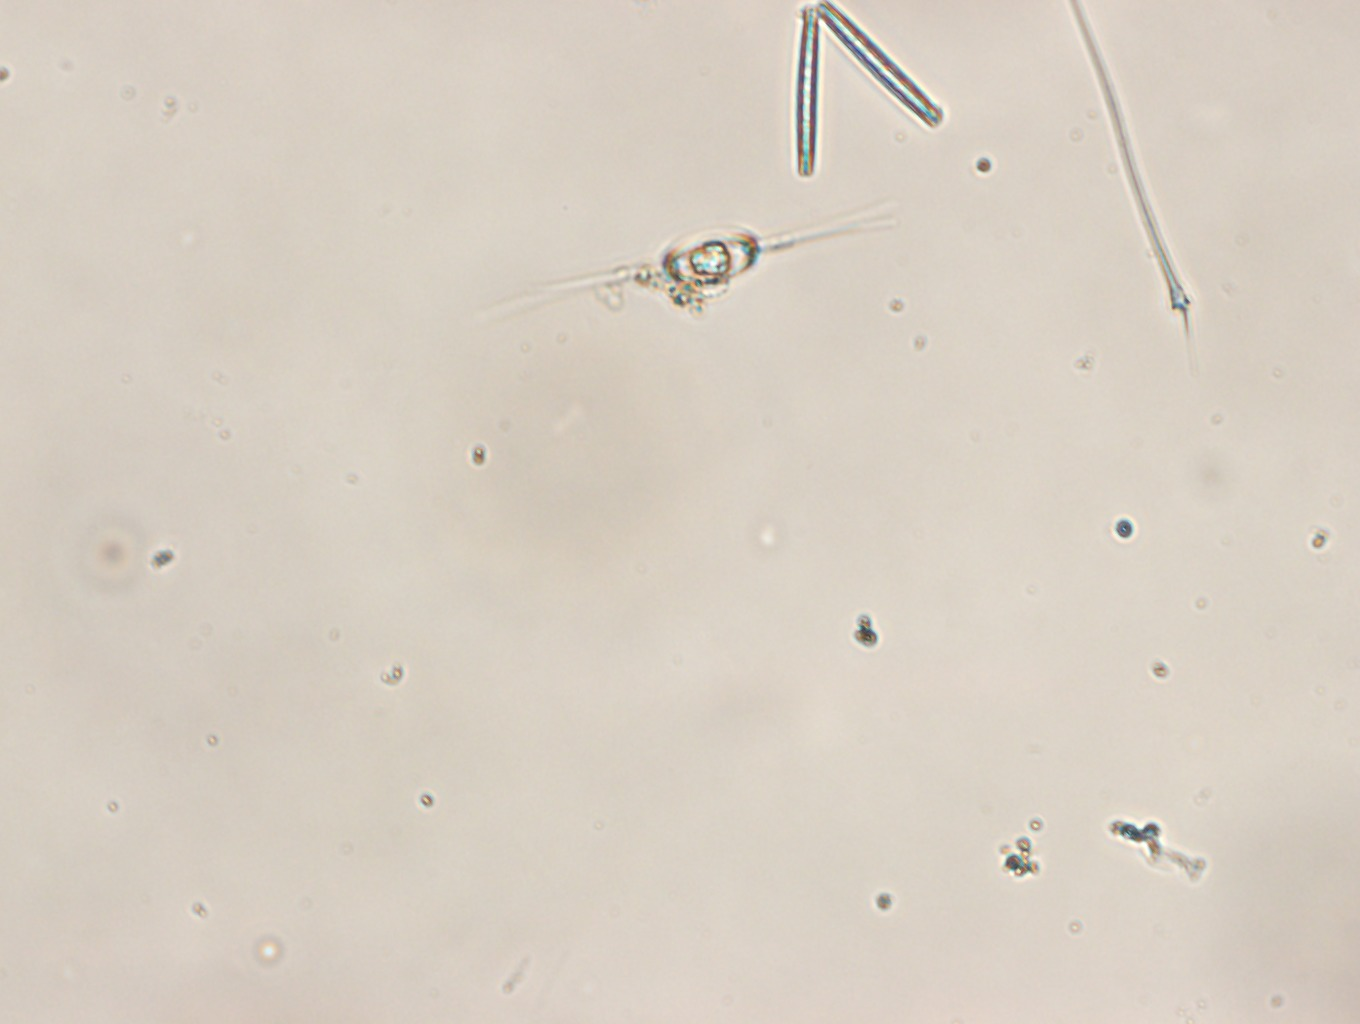chaetoceros: (481, 193, 911, 325)
thalassionema nitzschioides: (794, 3, 946, 175)
